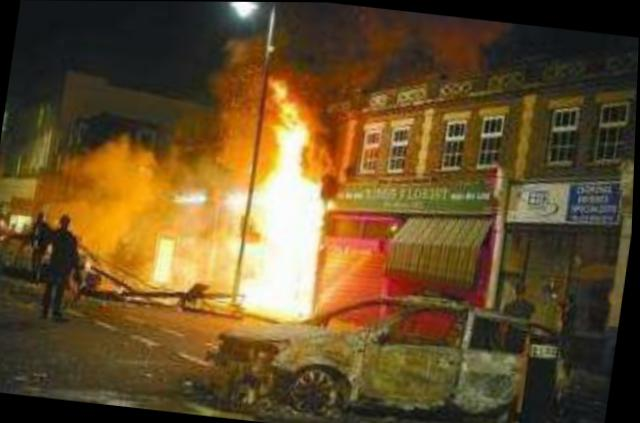fire: (219, 90, 360, 325)
